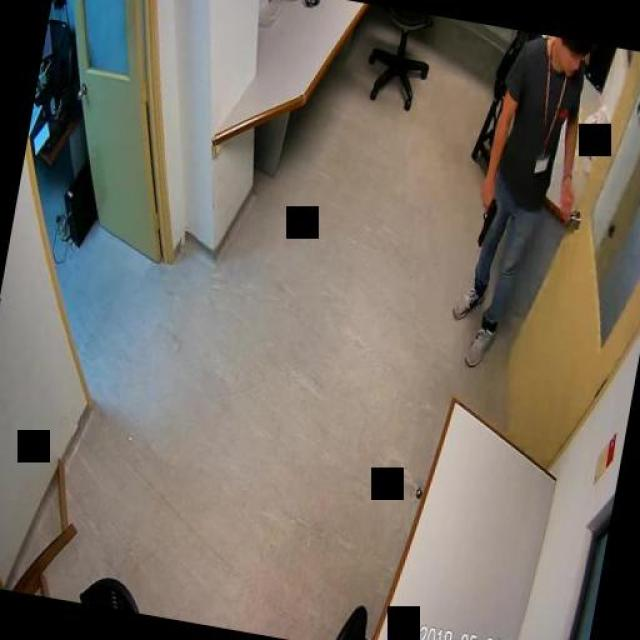gun: (475, 192, 497, 246)
